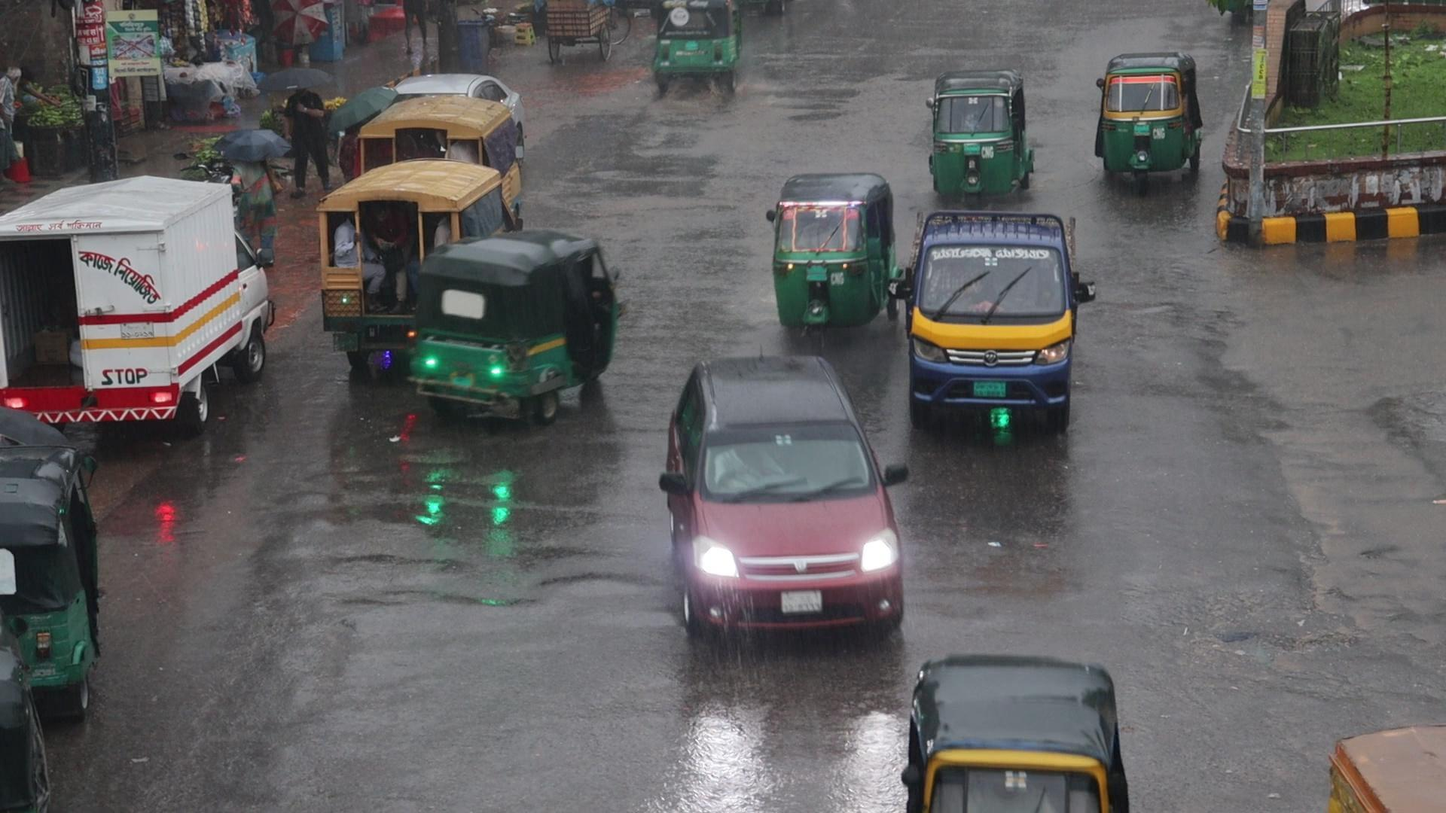Car: (656, 341, 897, 653)
Truck: (309, 155, 522, 384), (903, 208, 1071, 441)
